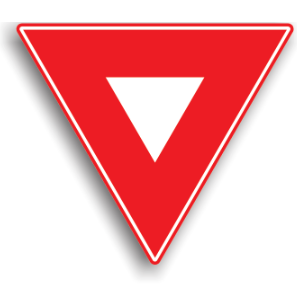cedeaza: (9, 15, 296, 265)
